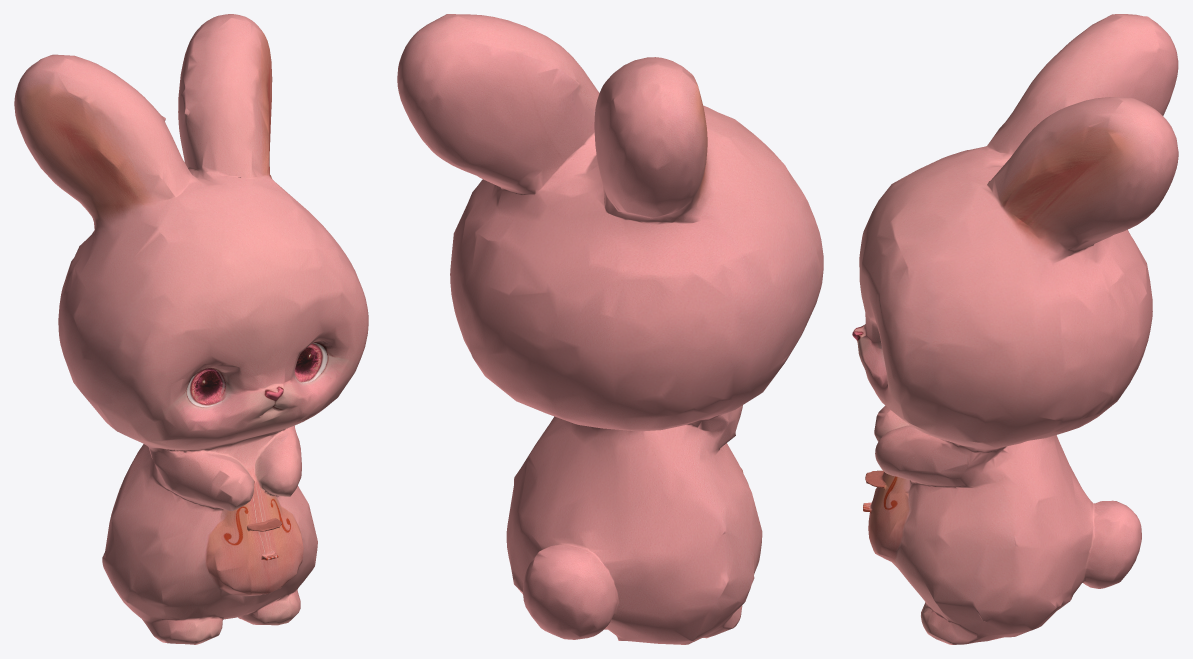
The picture shows the model from 3 angles, left to right: view 1: azimuth 30°, elevation 25°; view 2: azimuth 150°, elevation 25°; view 3: azimuth 270°, elevation 25°; orthographic projection. The views are drawn at different scales.
Visible parts, largest first — view 1: Mesh_0; view 2: Mesh_0; view 3: Mesh_0.
Boxes of the visible parts, left/top/right/bottom form: Mesh_0: left=14, top=14, right=368, bottom=644; Mesh_0: left=397, top=14, right=823, bottom=644; Mesh_0: left=852, top=14, right=1178, bottom=644.
Bounding box in the file's own units: 0.9732 × 1.9 × 1.01.
Materials: 1 (1 with a texture image).
